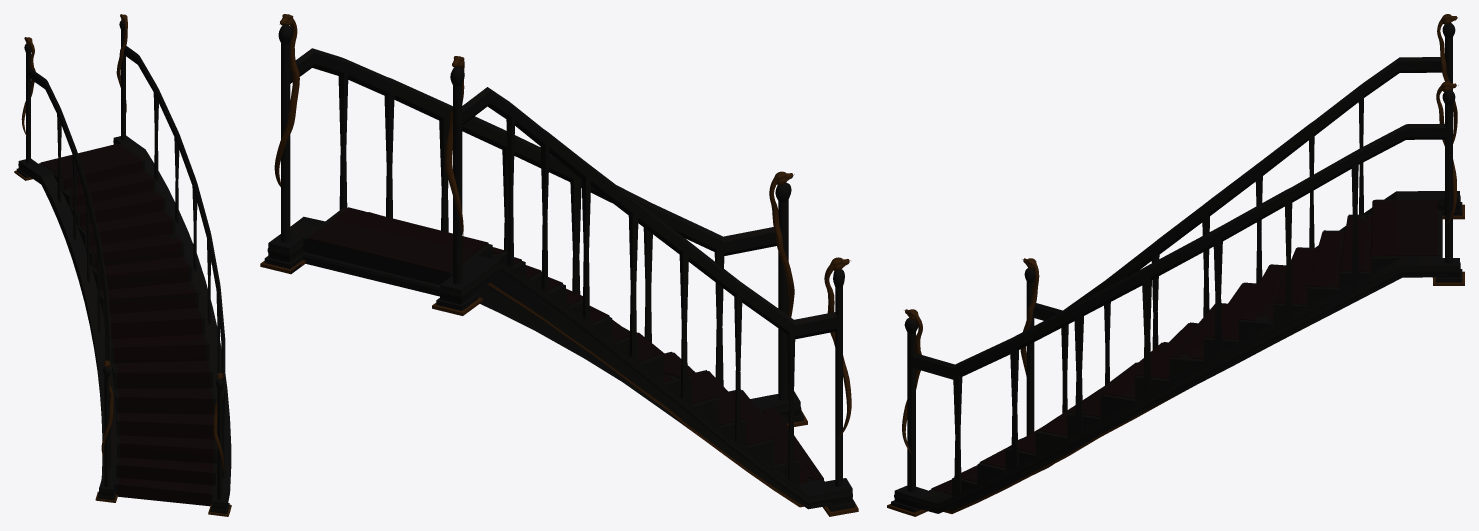
The model's file is Staircase_Right.FBX.
3 renders of one model, left to right at view 1: azimuth 30°, elevation 25°; view 2: azimuth 150°, elevation 25°; view 3: azimuth 270°, elevation 25°, orthographic. The views are drawn at different scales.
Visible parts, largest first — view 1: Staircase_R; view 2: Staircase_R; view 3: Staircase_R.
Part boxes in pixels (x1=…): Staircase_R: x1=14, y1=14, x2=231, y2=516; Staircase_R: x1=260, y1=14, x2=858, y2=516; Staircase_R: x1=887, y1=14, x2=1464, y2=516.
Bounding box in the file's own units: 3.17 × 5.67 × 6.08.
